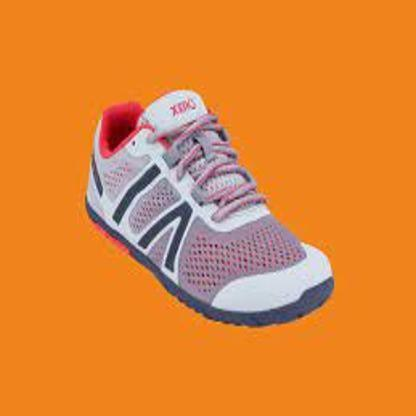not trash: (83, 92, 334, 332)
